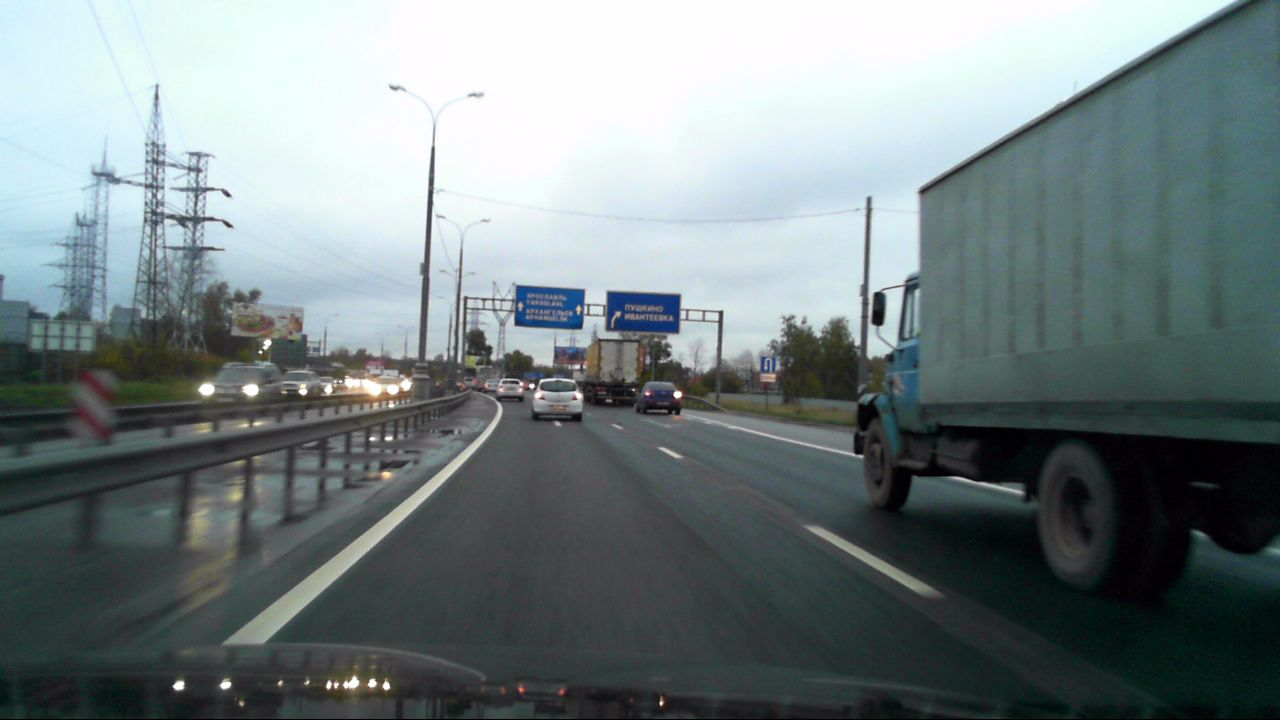U-turn: (761, 356, 775, 373)
